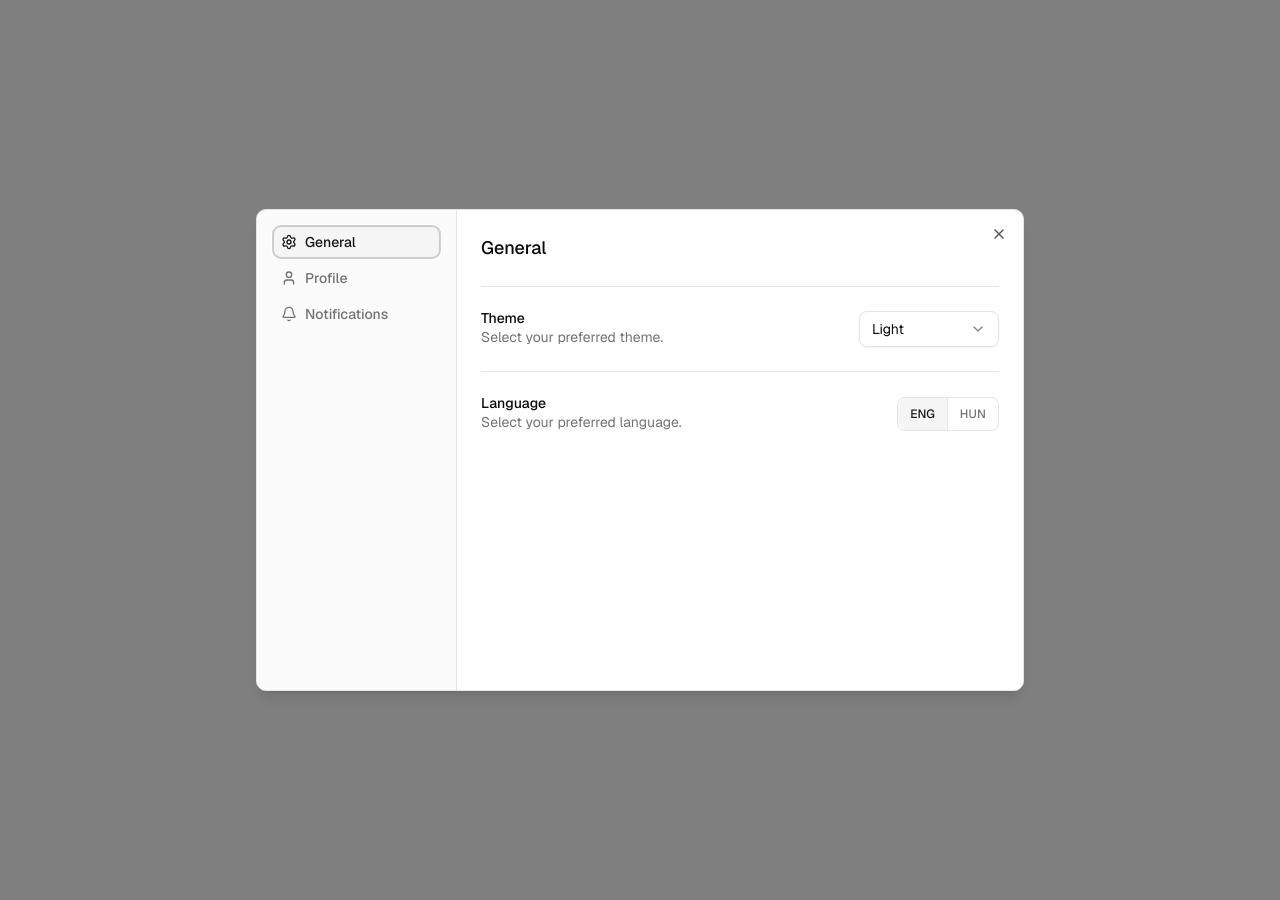
Test: SettingsDialog › loads profile data from server
This screenshot has width=1280, height=900.
Click the button "Profile": (356, 278) [273,262,440,294]
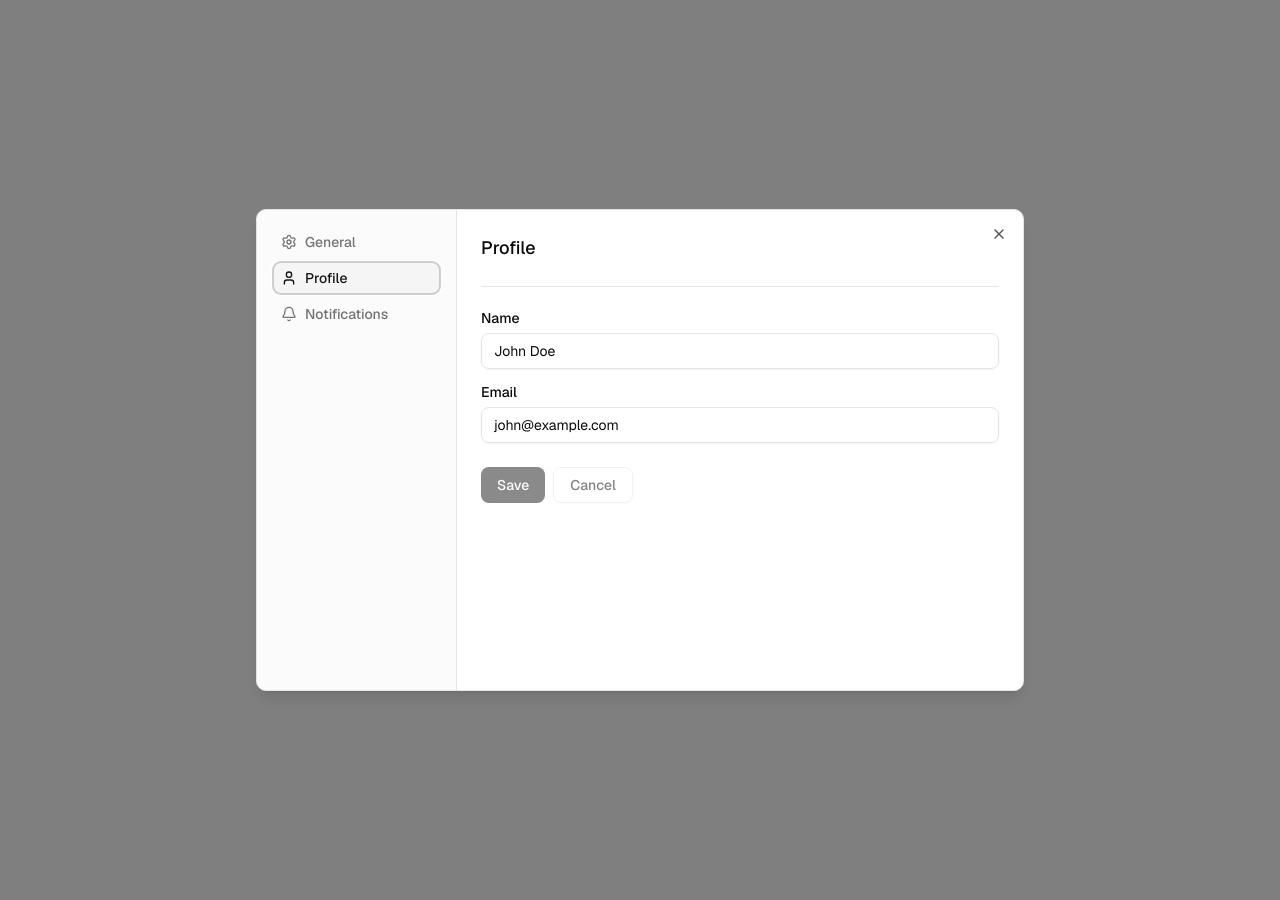
Now the field showing "John Doe" is shown, box [481,333,999,369]
Now the field showing "john@example.com" is shown, box [481,407,999,443]
